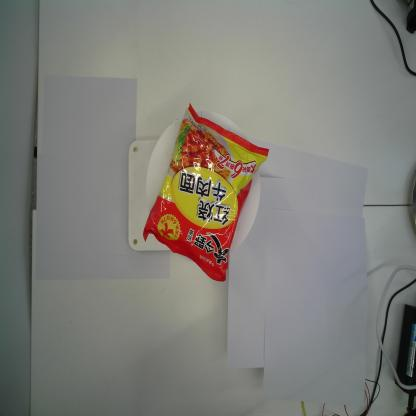Instant Noodles: (141, 102, 271, 282)
